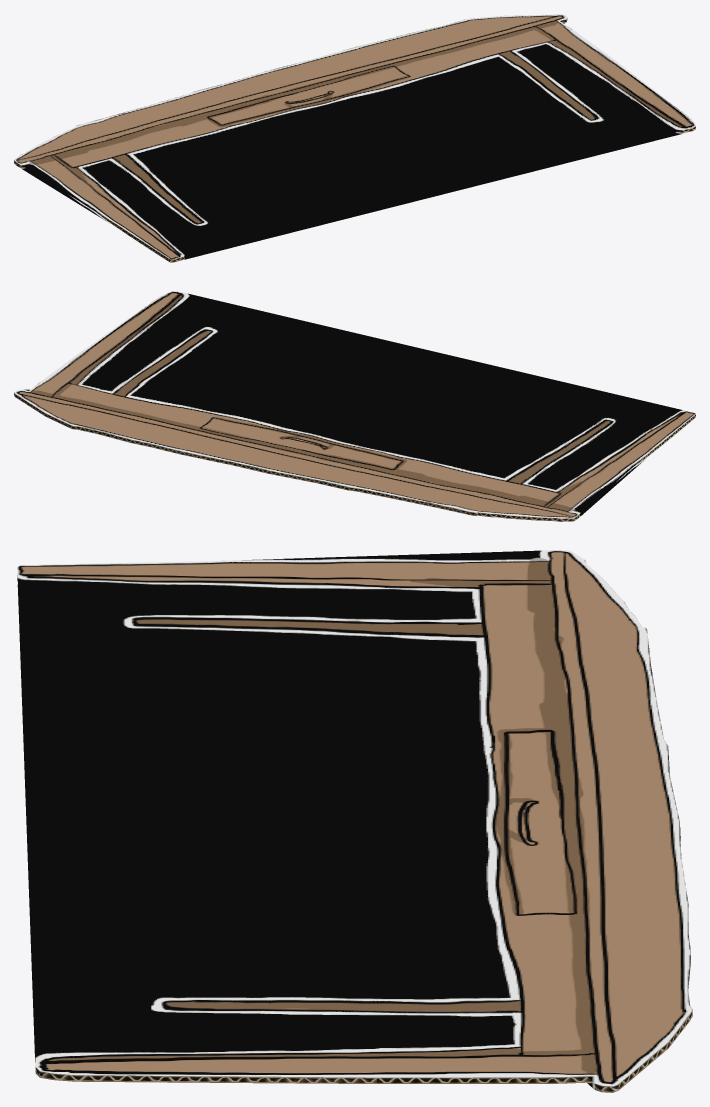
The model's file is tableMute.fbx.
3 renders of one model, top to bottom at view 1: azimuth 30°, elevation 25°; view 2: azimuth 150°, elevation 25°; view 3: azimuth 270°, elevation 25°, orthographic. The views are drawn at different scales.
Visible parts, largest first — view 1: Plane; view 2: Plane; view 3: Plane.
Boxes of the visible parts, x1,y1,x2,y2 form: Plane: (14, 14, 695, 262); Plane: (14, 291, 695, 521); Plane: (17, 550, 692, 1092).
Size of the model in its own units: 8.78 by 0.05 by 4.67.
